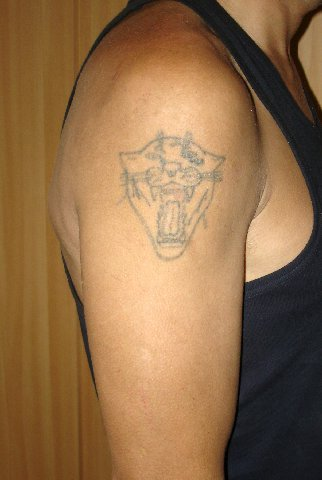tatu5_tigr: (114, 130, 227, 265)
